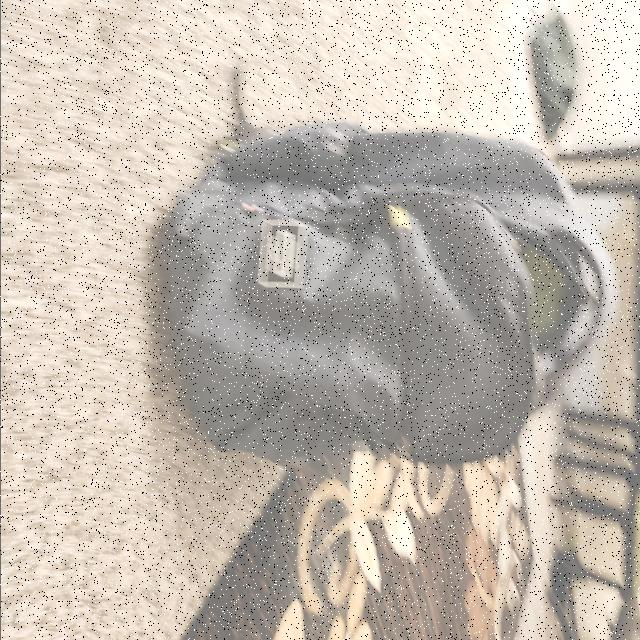bag: (167, 124, 612, 458)
